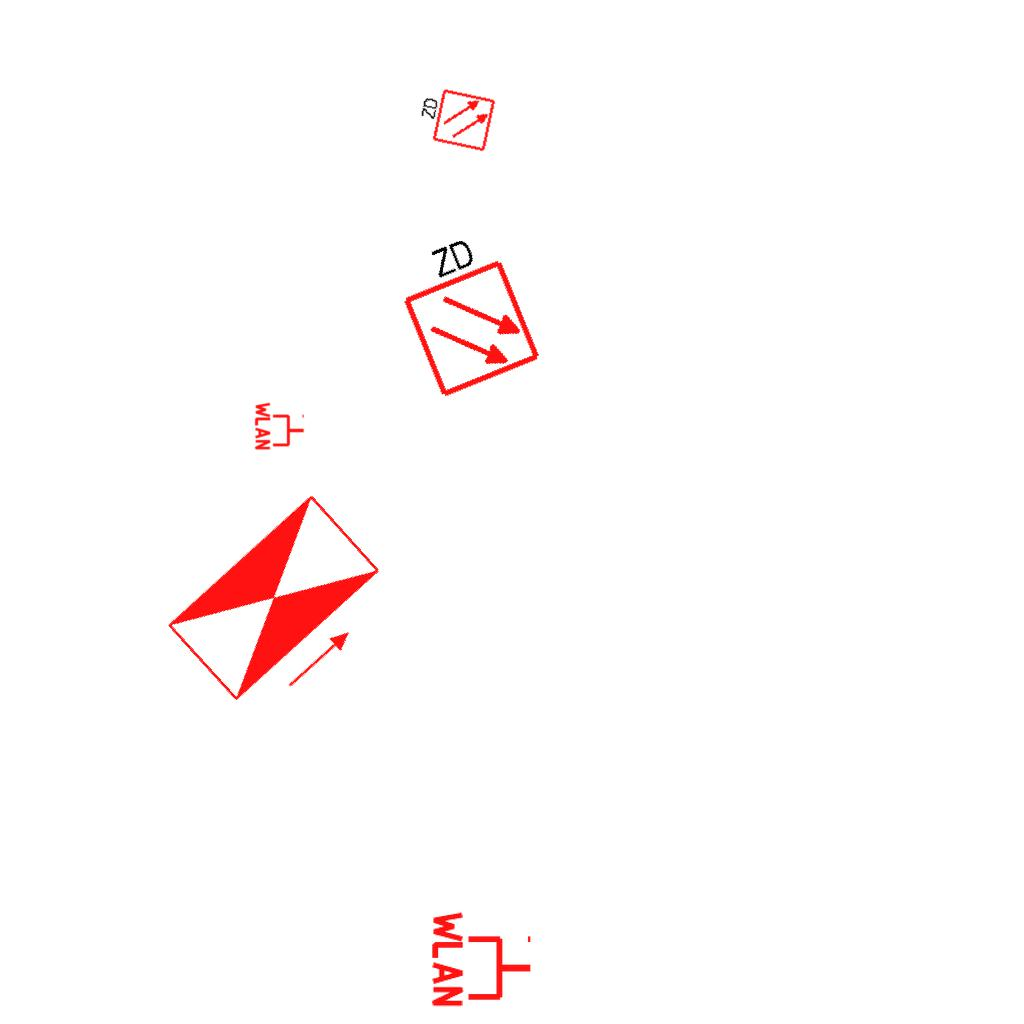Fluchtwegpiktogramm: (158, 485, 411, 735)
WLAN: (430, 907, 535, 1011), (254, 400, 306, 452)
ZD_Melder_in_Zwischendecke_mit_Revisionsoeffnung_mind_40_x_40_cm: (382, 221, 544, 402), (412, 83, 497, 155)
